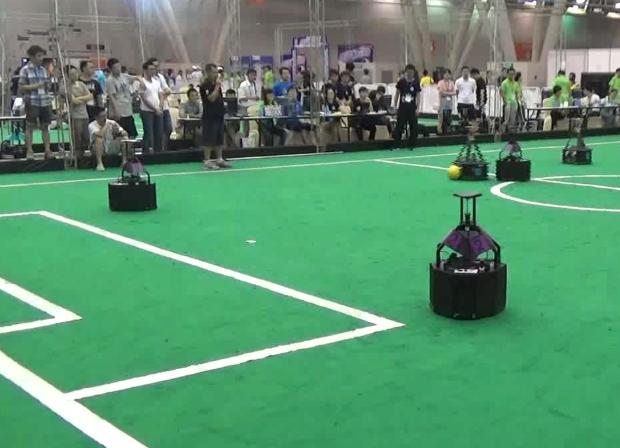robot: (426, 190, 509, 321), (103, 138, 159, 212), (490, 127, 534, 183), (451, 125, 491, 180), (560, 117, 594, 166)
